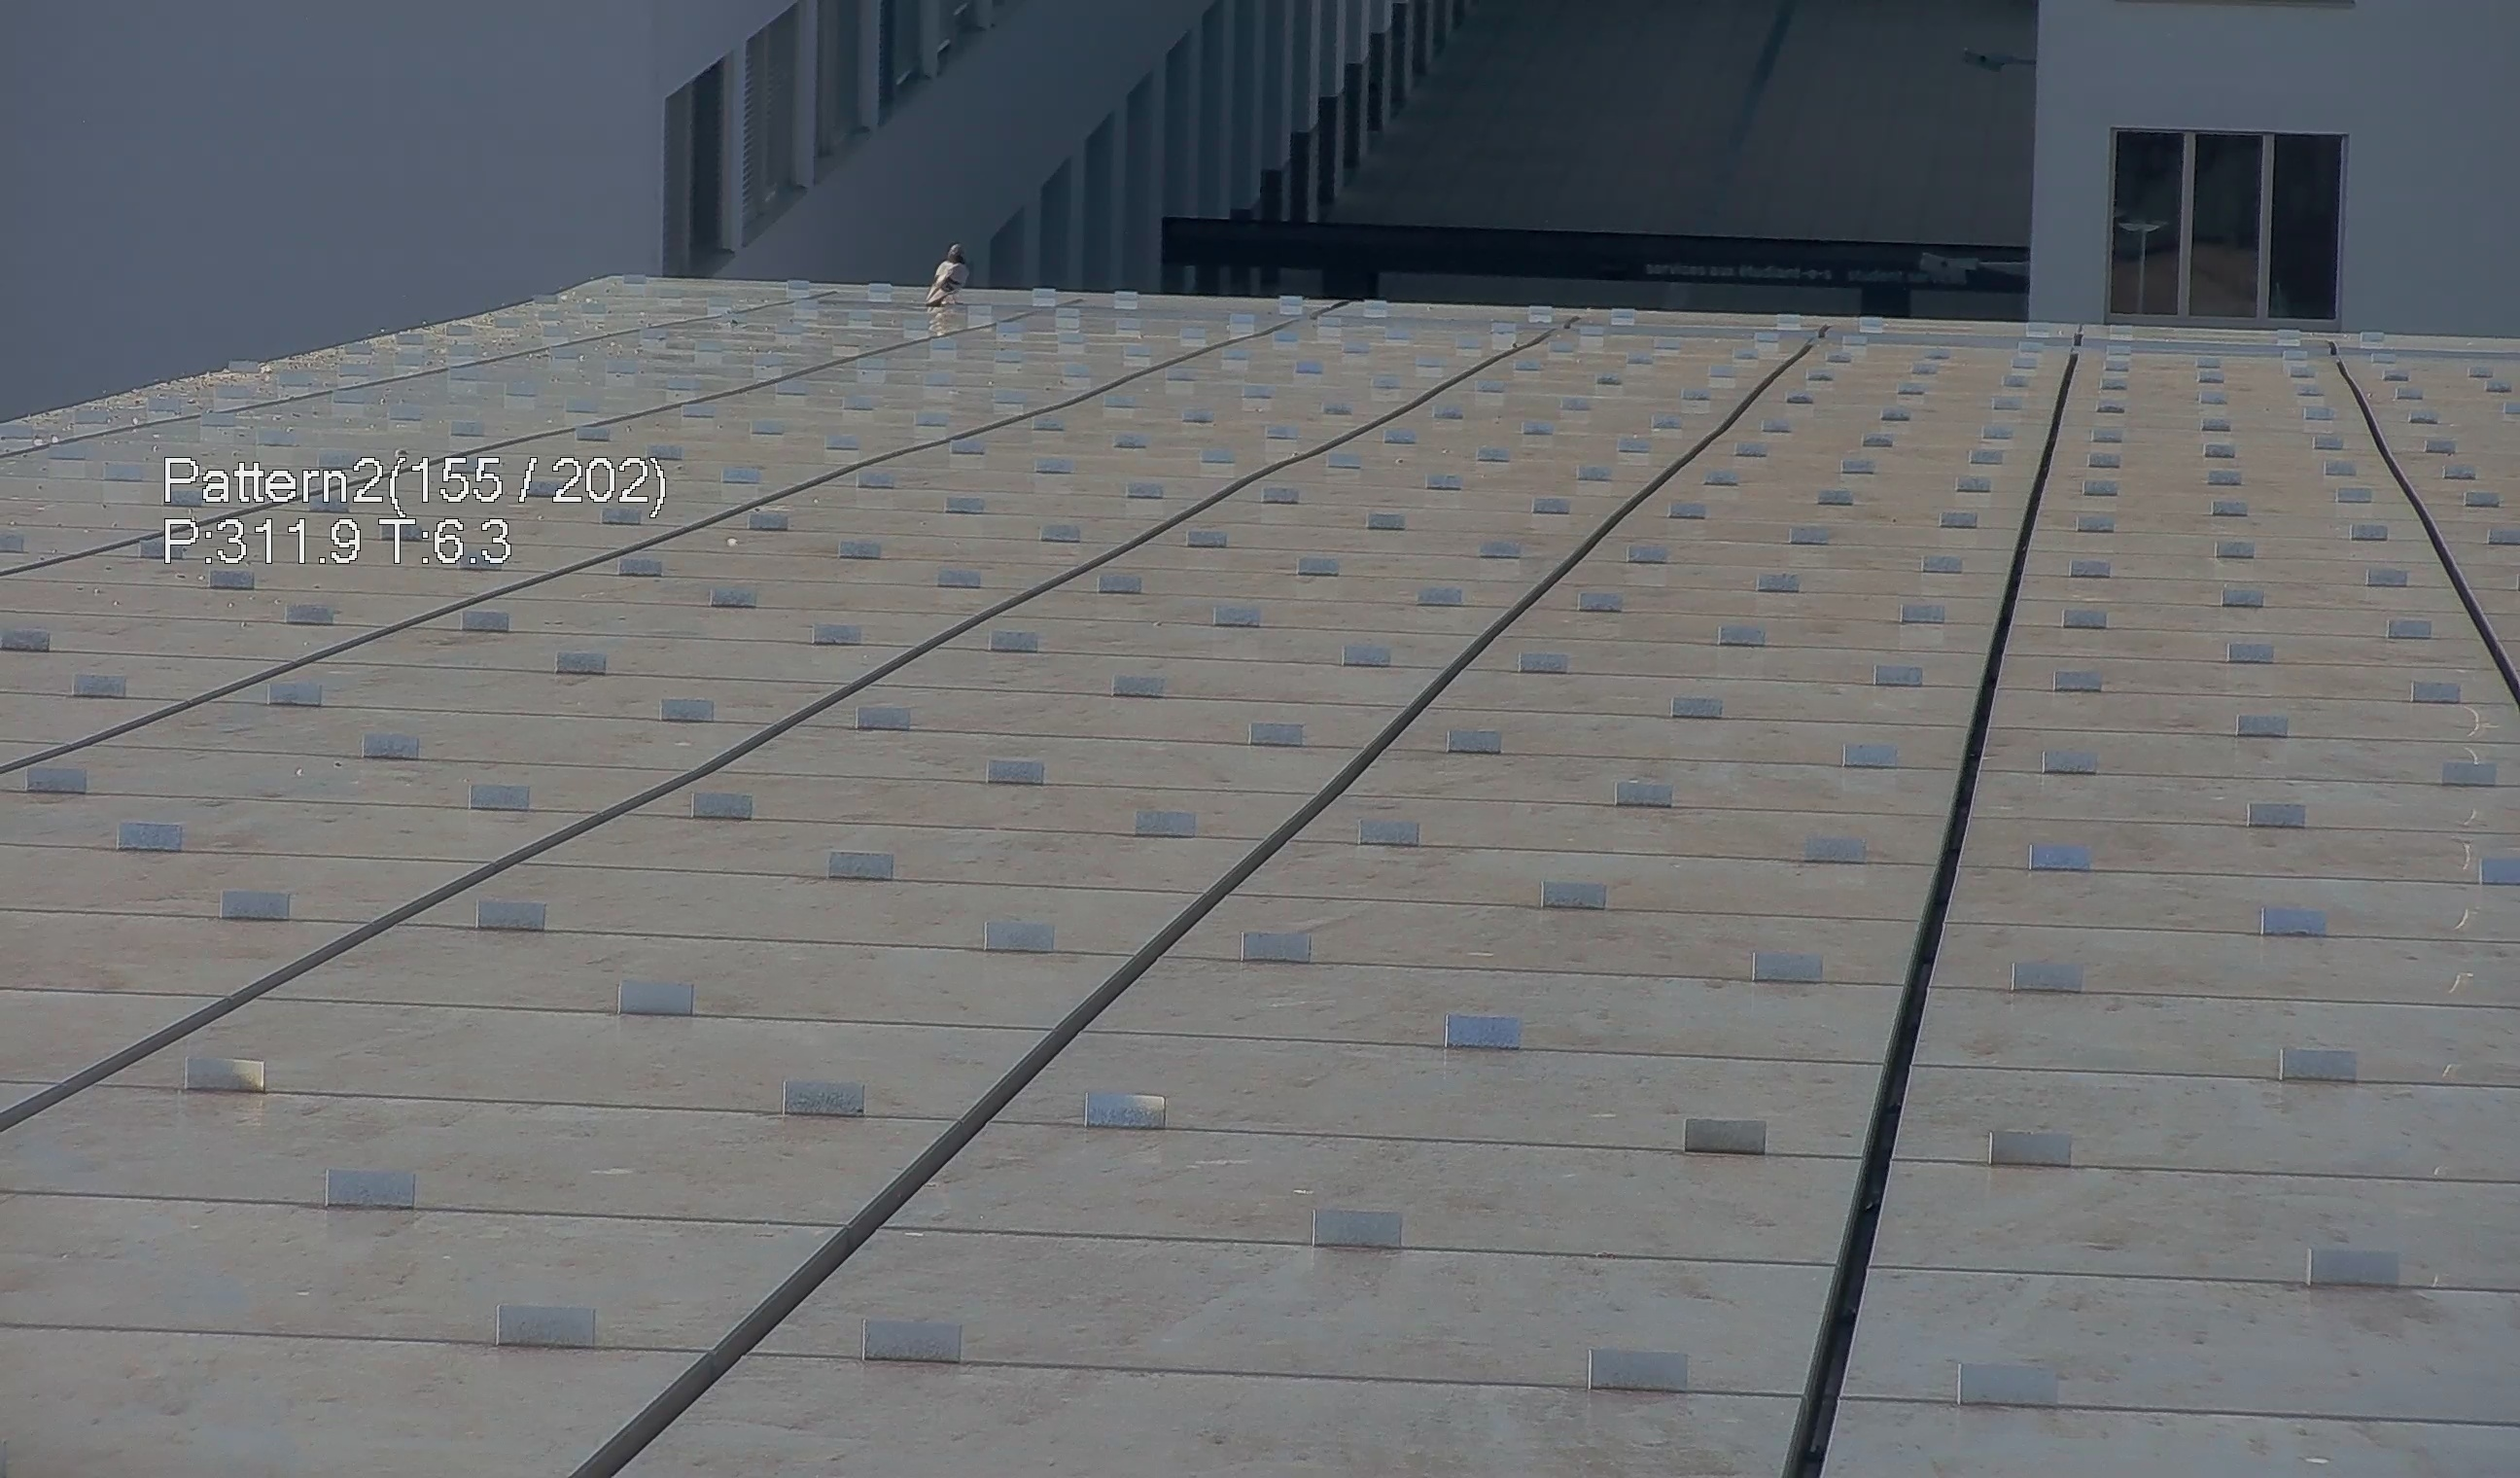Pigeon: (913, 229, 976, 326)
